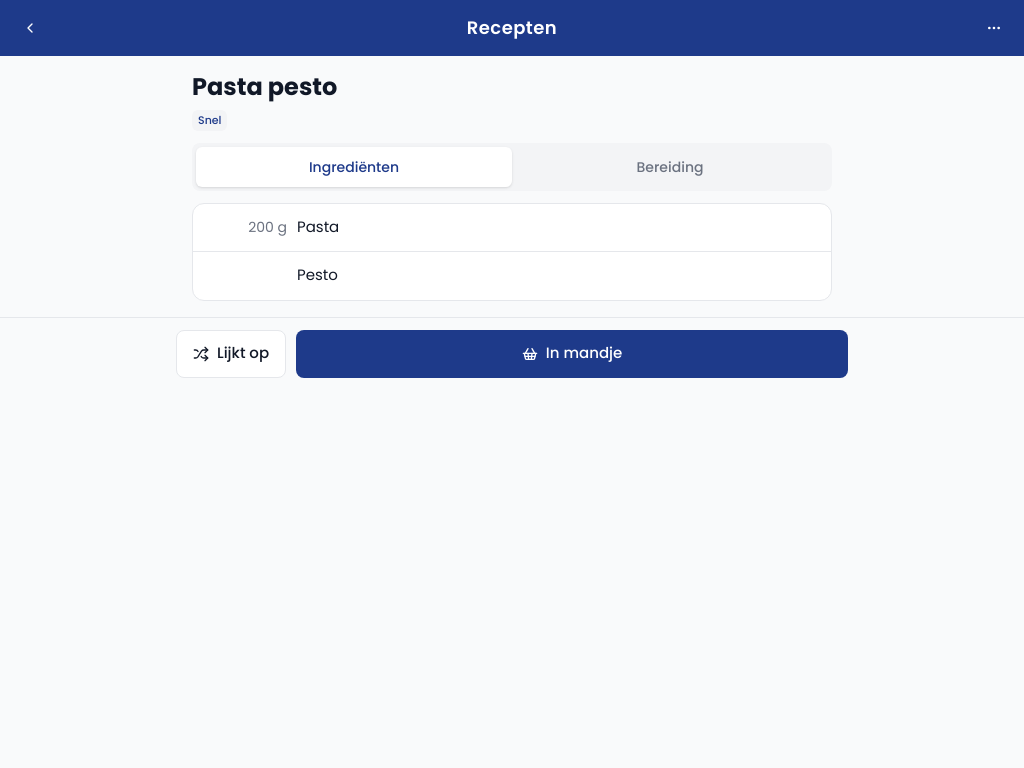
Scenario: RecipeDetailClient › the ⋯ menu › cancelling the confirmation deletes nothing
The width and height of the screenshot is (1024, 768).
Click the button named "Meer" at (994, 28), box [972,6,1016,50]
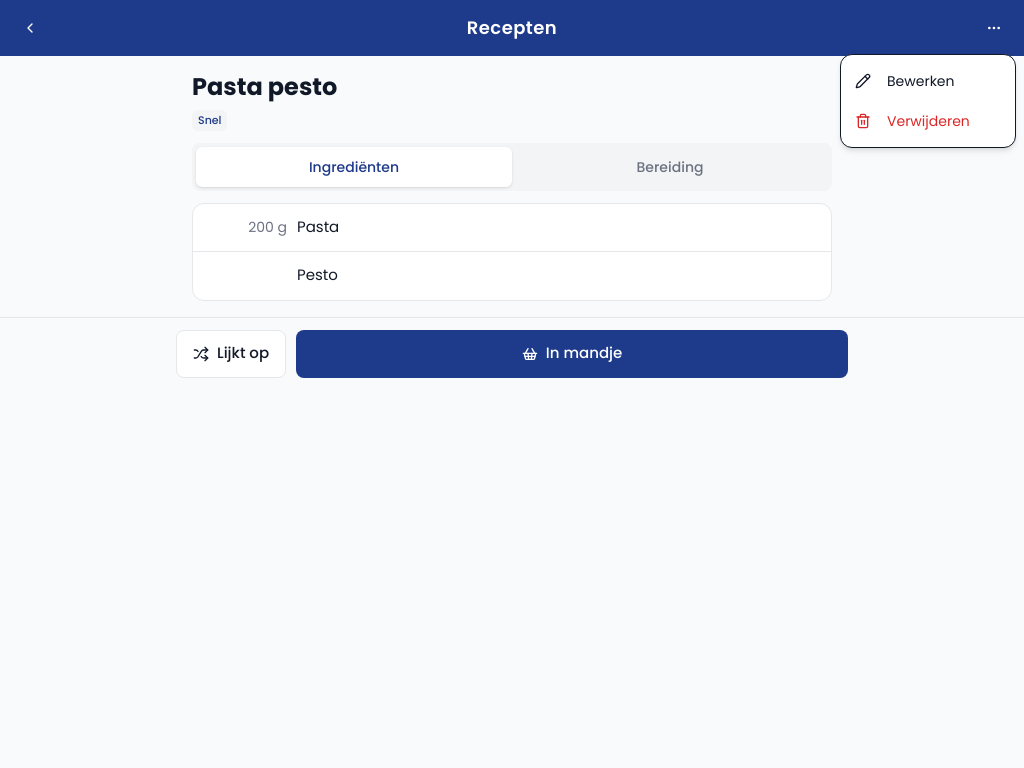
Click the menu item "Verwijderen" at (912, 121), box [855,111,970,131]
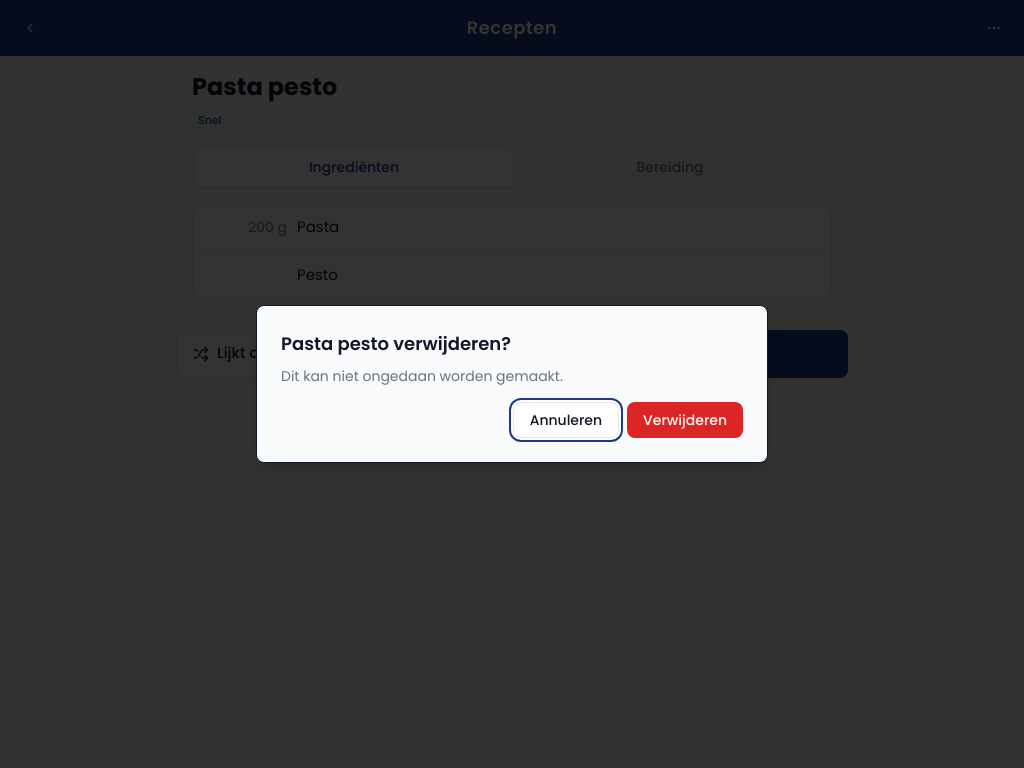
Click the button "Annuleren" at (566, 420), box [513,402,619,438]
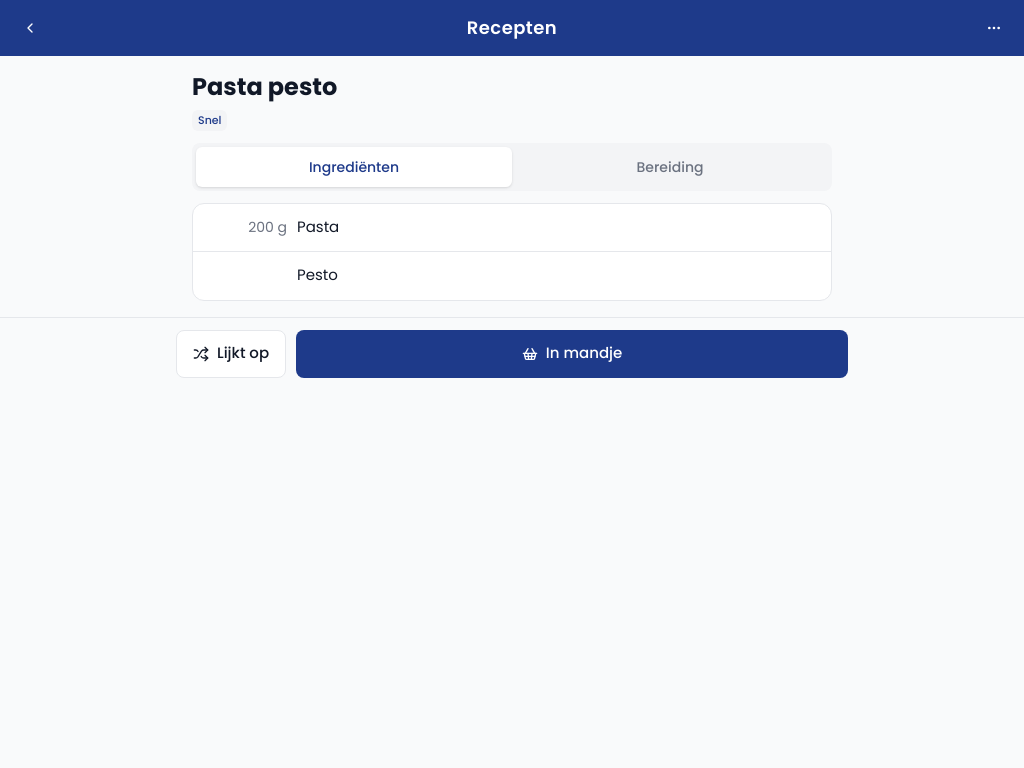
Expected: the dialog is gone
